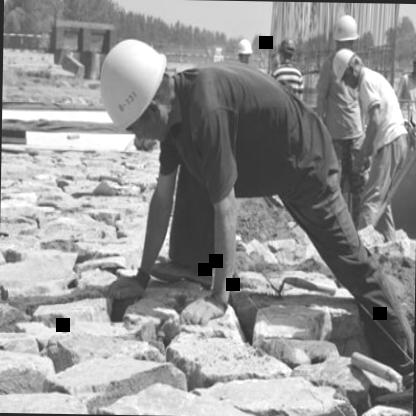helmet: (91, 32, 176, 142), (330, 11, 361, 60), (329, 45, 362, 89), (234, 36, 254, 69), (275, 34, 296, 65), (410, 49, 416, 78)
